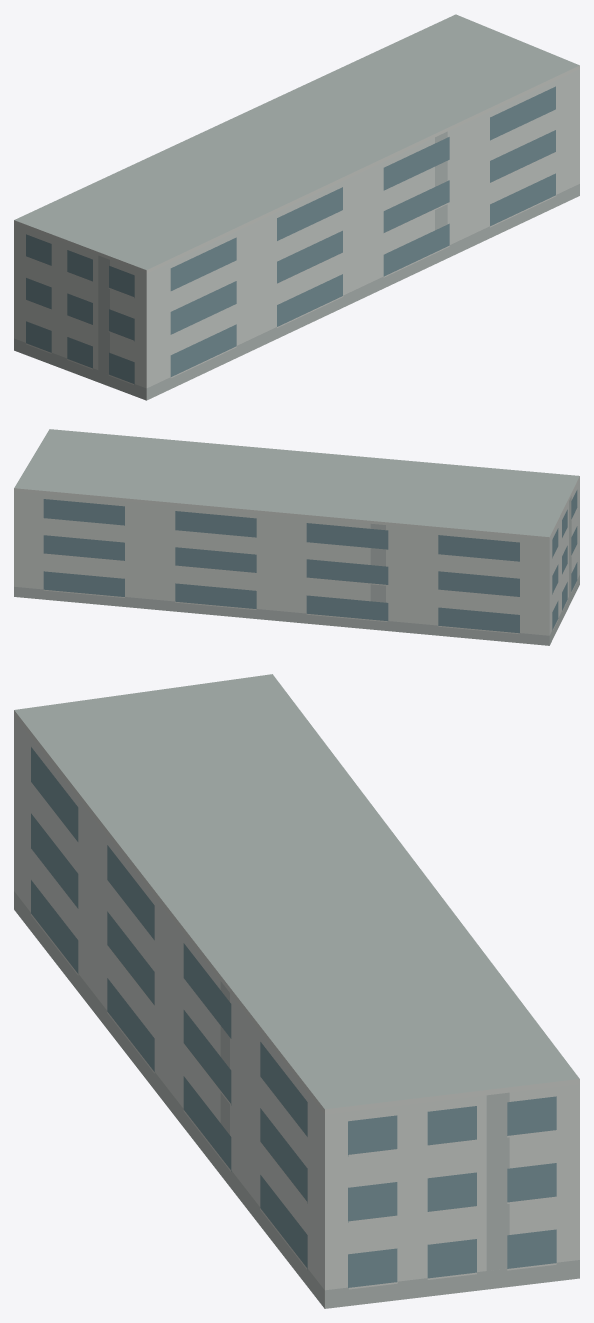
File: residential-150d33bb-c55b-4ac8-ae5a-00451ede24ee.glb
The picture shows the model from 3 angles, top to bottom: view 1: azimuth 30°, elevation 25°; view 2: azimuth 150°, elevation 25°; view 3: azimuth 270°, elevation 25°; orthographic projection. The views are drawn at different scales.
Visible parts, largest first — view 1: residential-150d33bb-c55b-4ac8-ae5a-00451ede24ee.tmp; view 2: residential-150d33bb-c55b-4ac8-ae5a-00451ede24ee.tmp; view 3: residential-150d33bb-c55b-4ac8-ae5a-00451ede24ee.tmp.
Boxes of the visible parts, left/top/right/bottom form: residential-150d33bb-c55b-4ac8-ae5a-00451ede24ee.tmp: left=14, top=14, right=579, bottom=400; residential-150d33bb-c55b-4ac8-ae5a-00451ede24ee.tmp: left=14, top=429, right=579, bottom=645; residential-150d33bb-c55b-4ac8-ae5a-00451ede24ee.tmp: left=14, top=674, right=579, bottom=1308.
Size of the model in its own units: 42.81 by 9.15 by 23.52.
